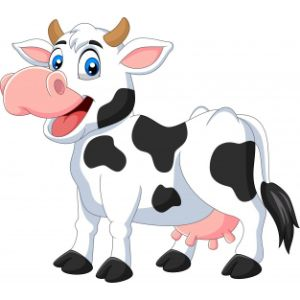cow: (2, 16, 300, 284)
